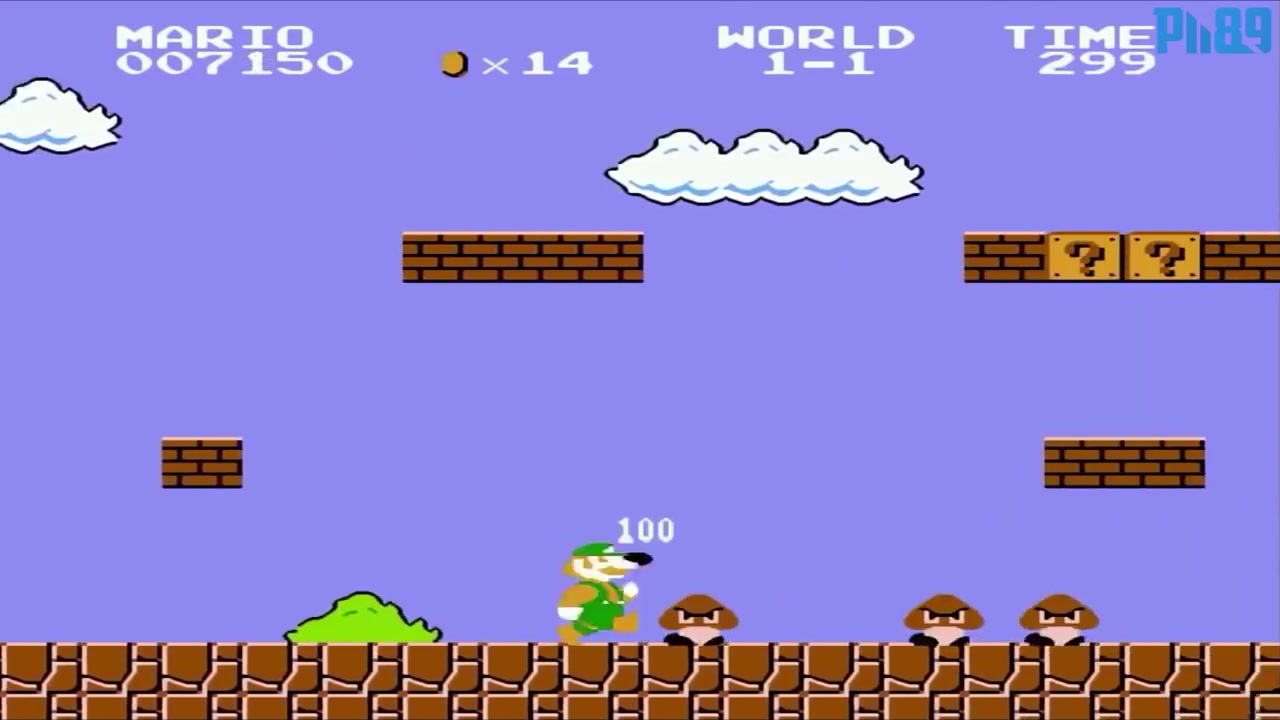mario: (540, 532, 649, 640)
